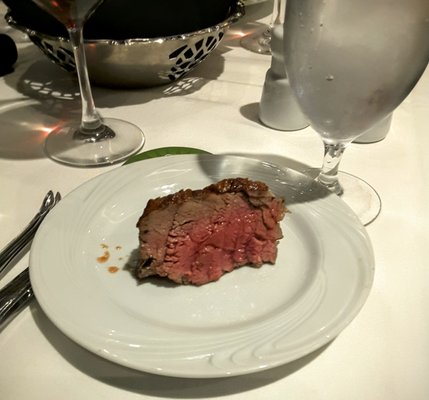burger: (0, 189, 62, 292)
